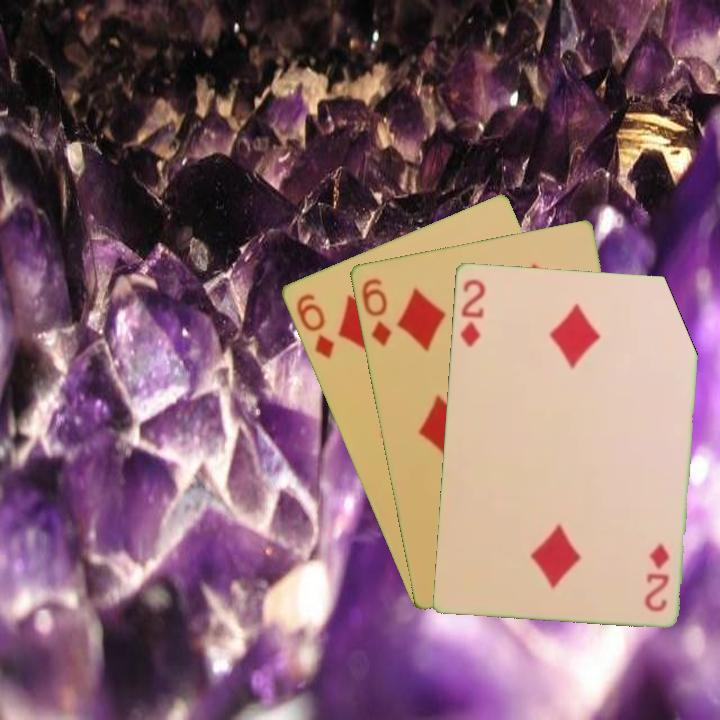2d: (456, 275, 488, 350), (642, 540, 672, 614)
6d: (292, 289, 336, 362), (357, 274, 394, 349)
